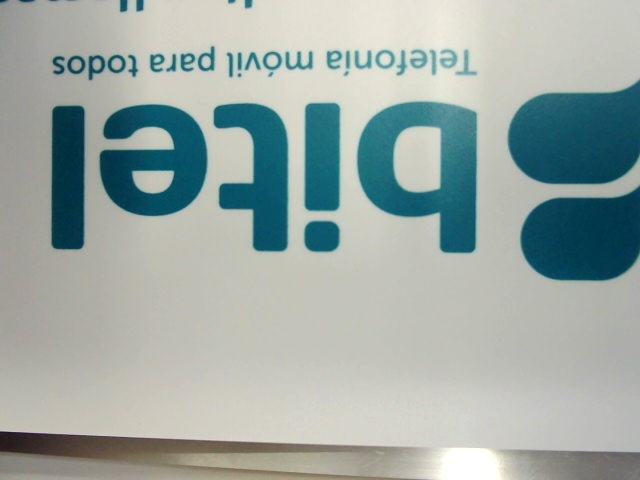BE_bitel: (31, 79, 639, 284)
